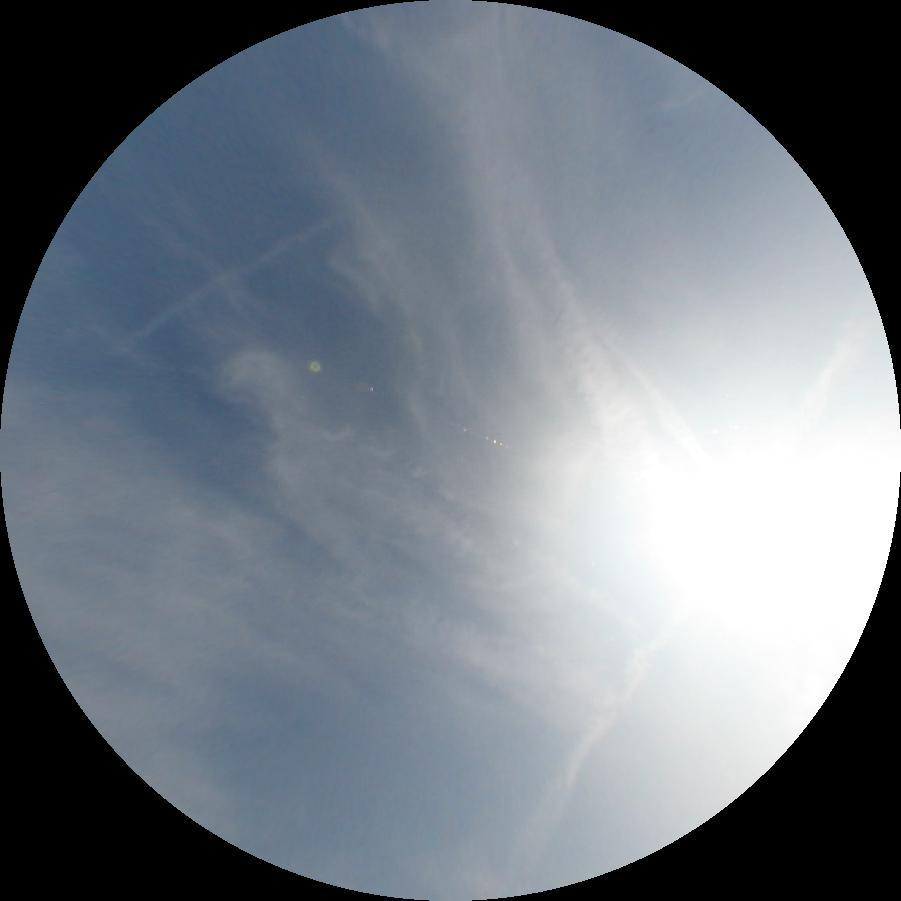contrail veryold: (494, 289, 895, 894), (513, 209, 676, 507), (106, 211, 340, 356), (567, 281, 716, 472)
sun: (639, 433, 901, 670)
